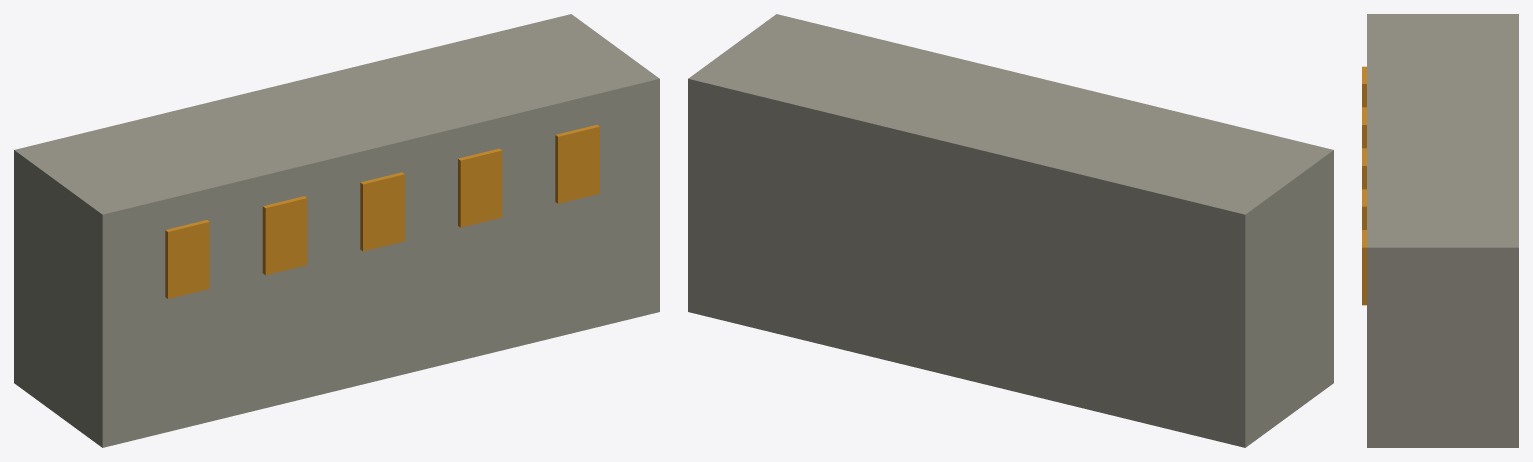
Rendered from road-barrier.glb.
The picture shows the model from 3 angles, left to right: view 1: azimuth 30°, elevation 25°; view 2: azimuth 150°, elevation 25°; view 3: azimuth 270°, elevation 25°; orthographic projection. The views are drawn at different scales.
Parts seen in each view (by area): view 1: road-barrier; view 2: road-barrier; view 3: road-barrier.
Boxes of the visible parts, bbox=[...] form: road-barrier: bbox=[14, 14, 659, 447]; road-barrier: bbox=[688, 14, 1333, 447]; road-barrier: bbox=[1362, 14, 1518, 447].
Size of the model in its own units: 2 by 0.8 by 0.567.
